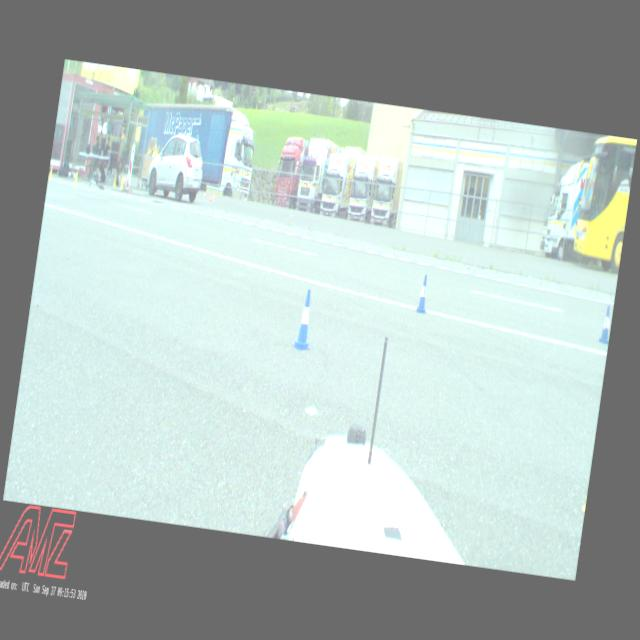blue_cone: (292, 288, 318, 352), (416, 274, 431, 314), (598, 306, 613, 344)
yellow_cone: (48, 166, 54, 180), (74, 171, 79, 186), (112, 174, 118, 186), (120, 177, 124, 190)
